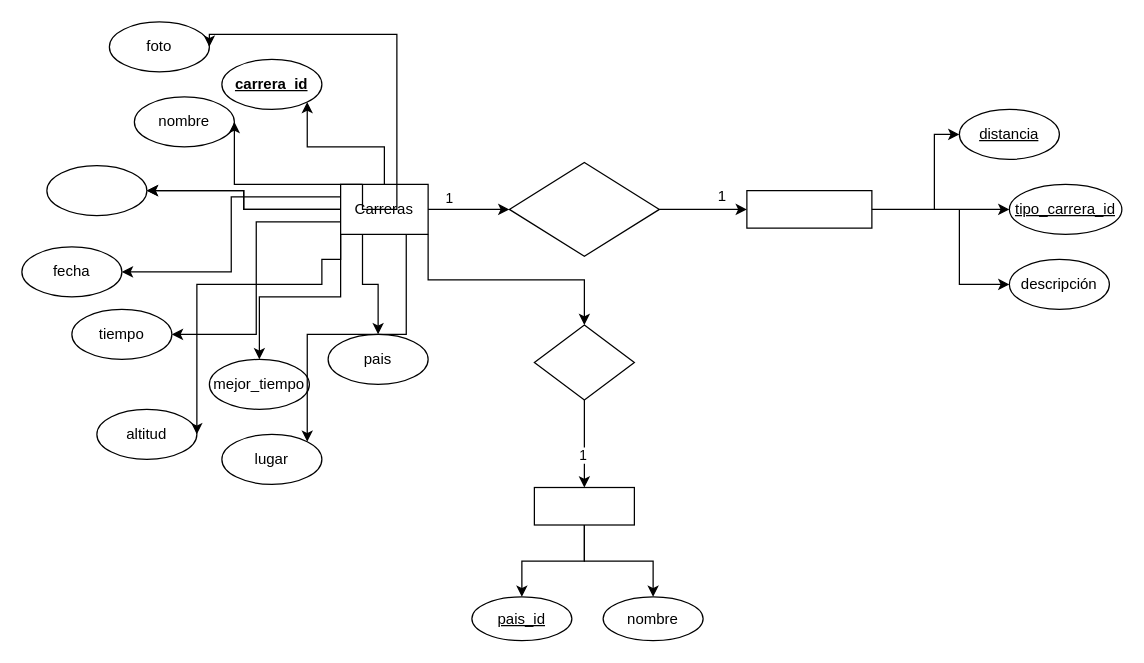
This 1144x663 diagram has some shape labels left out. The centre of each missing label's shape, as x and y in pixels:
"paises" goes at (583,505).
"Pertenece" goes at (583,208).
"se corre" goes at (583,362).
"tipo_carrera" goes at (96,190).
"tipos_carrera" goes at (809,208).
